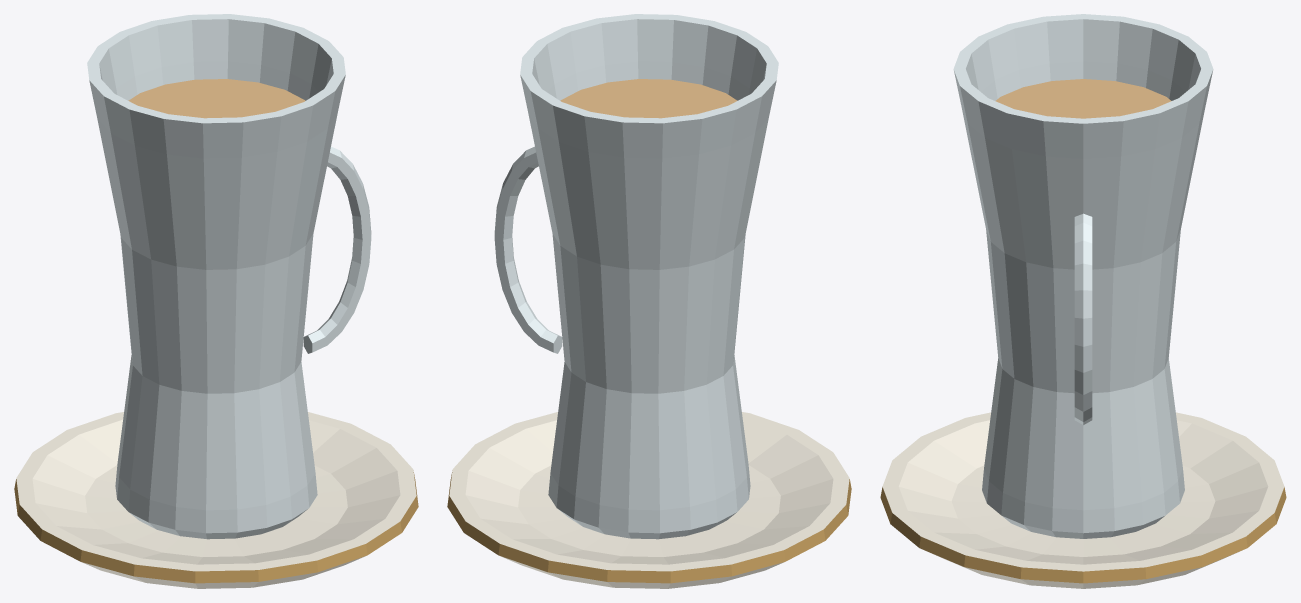
Rendered from karak-cup.glb.
The picture shows the model from 3 angles, left to right: view 1: azimuth 30°, elevation 25°; view 2: azimuth 150°, elevation 25°; view 3: azimuth 270°, elevation 25°; orthographic projection.
Parts seen in each view (by area): view 1: karak-cup; view 2: karak-cup; view 3: karak-cup.
Part boxes in pixels (bbox=[...]): karak-cup: bbox=[14, 14, 418, 588]; karak-cup: bbox=[447, 14, 851, 588]; karak-cup: bbox=[880, 14, 1286, 588].
Bounding box in the file's own units: 0.2 × 0.247 × 0.2.
